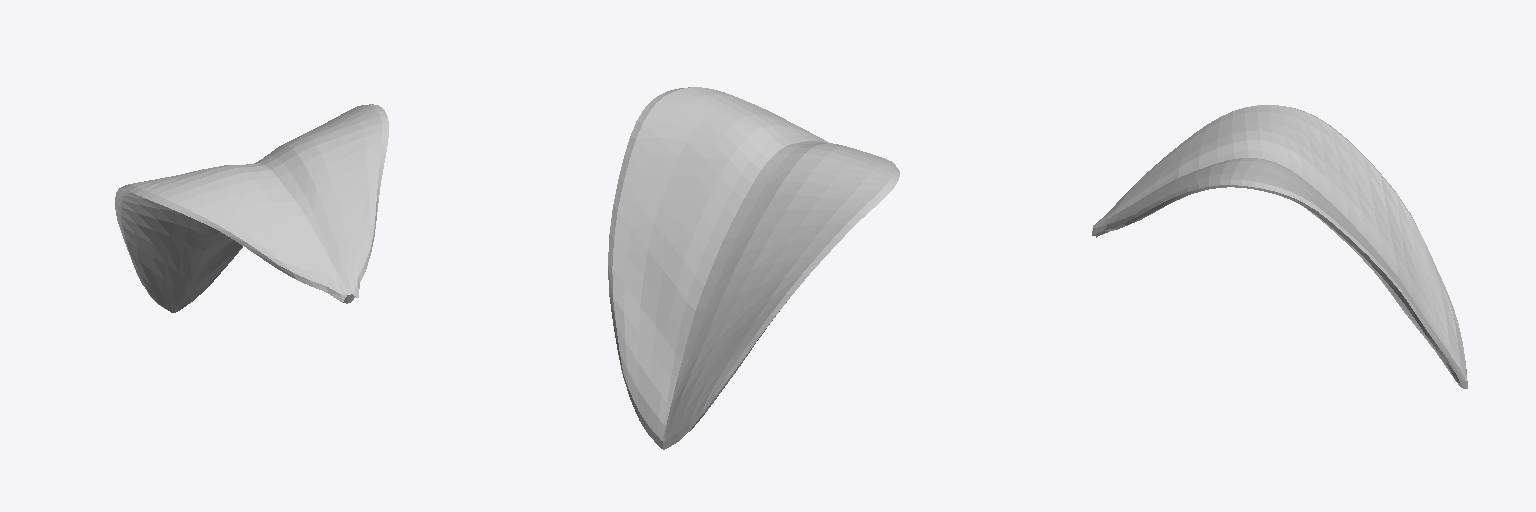
File: leaftest3.obj
3 views of the same model, side by side, from view 1: azimuth 30°, elevation 25°; view 2: azimuth 150°, elevation 25°; view 3: azimuth 270°, elevation 25° (orthographic).
Parts seen in each view (by area): view 1: stem__0; view 2: stem__0; view 3: stem__0.
Boxes of the visible parts, box(x1,y1,x2,y2) form: stem__0: box(115, 104, 388, 312); stem__0: box(608, 87, 899, 449); stem__0: box(1092, 105, 1467, 388).
Size of the model in its own units: 0.6894 by 0.6958 by 0.9309.